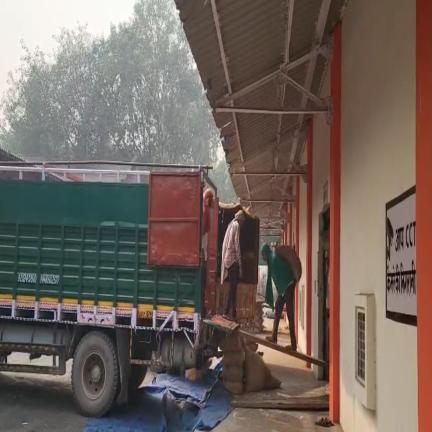Zone-Counting: (262, 243, 301, 350)
